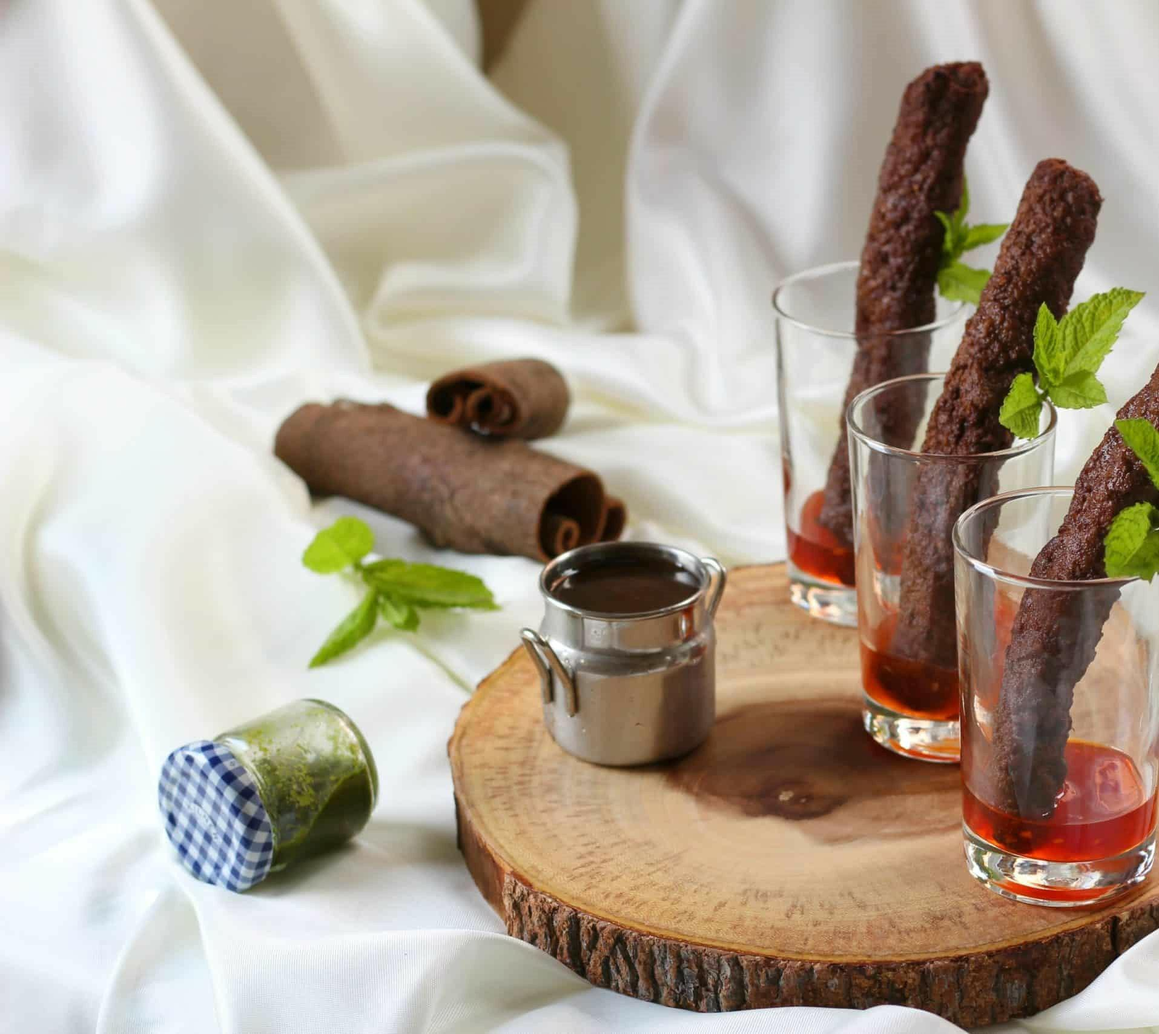Kebab: (883, 160, 1101, 713), (820, 60, 990, 585), (991, 367, 1159, 836)
